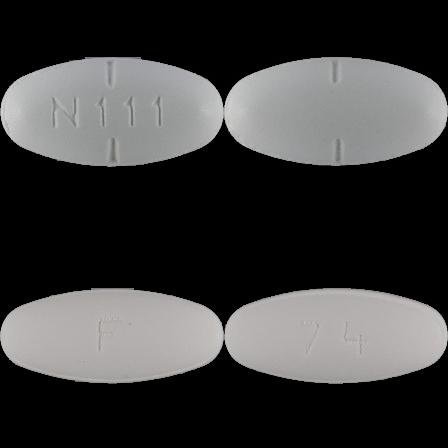16714-101: (0, 0, 224, 224)
